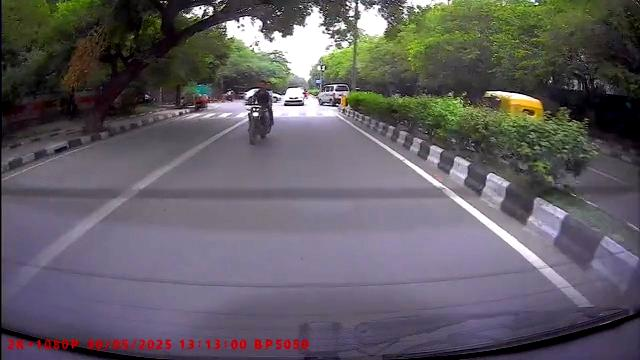motorcycle_without_helmet: (244, 77, 275, 147)
